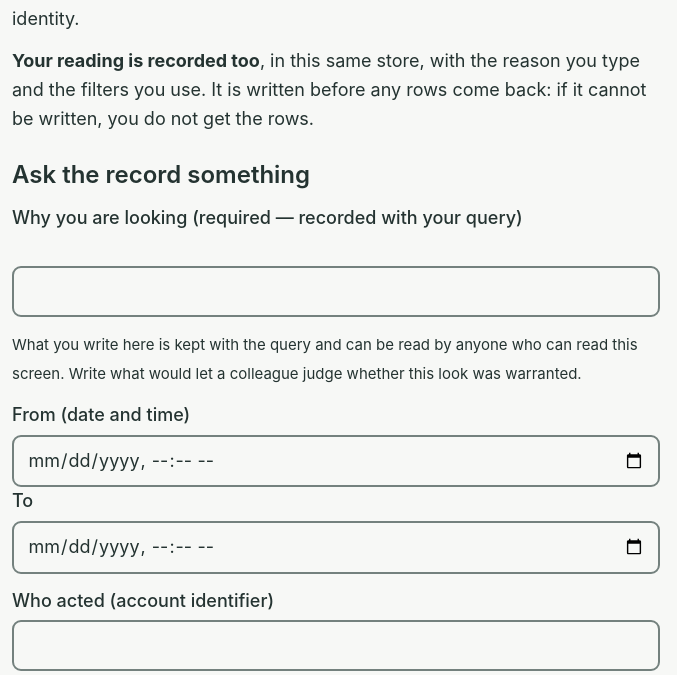
Test case: AuditAccess (G7) › an empty result says it is not the same as nothing having happened
(page scrolled)
Type "checking" into the field labelled "Why you are looking (required — recorded with your query)". click: point(336, 291)
box: [12, 266, 660, 317]
(page scrolled)
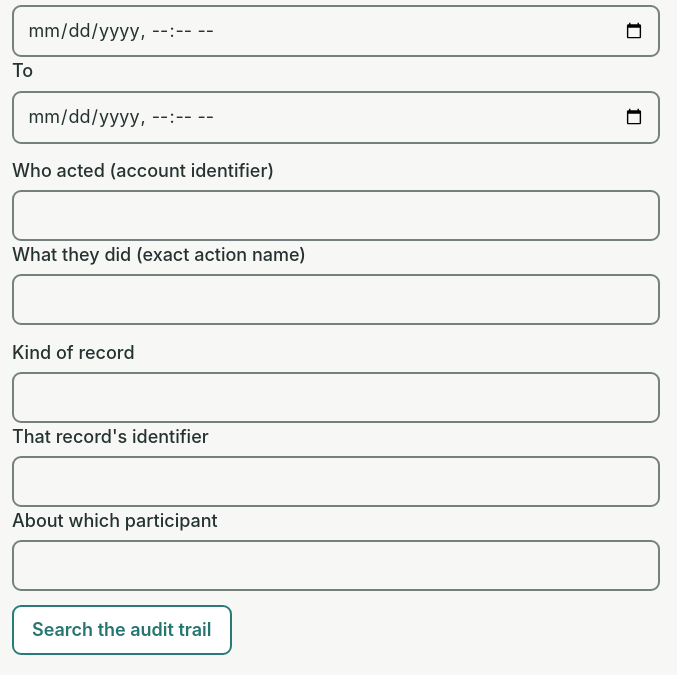
Click the button "Search the audit trail". click: point(122, 630)
box: [12, 604, 232, 655]
(page scrolled)
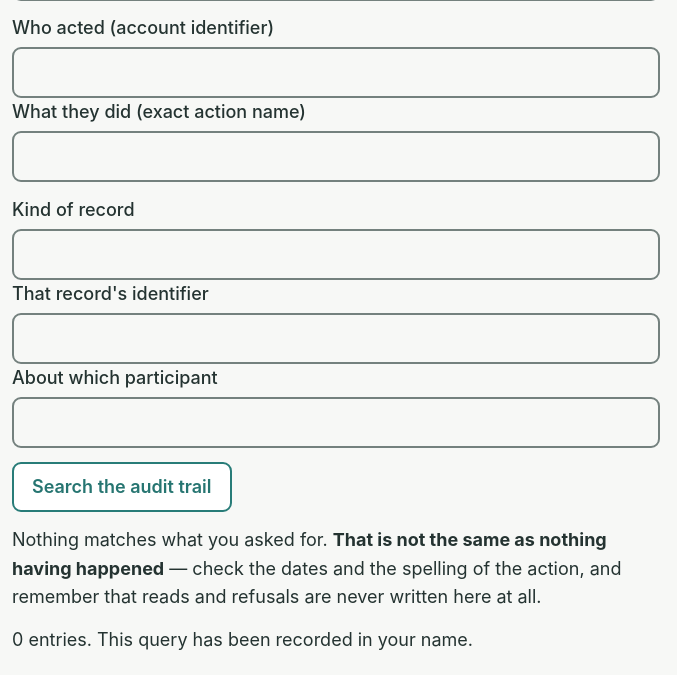
Expected: the text "That is not the same as nothing having happened" is shown, [12, 529, 607, 579]
